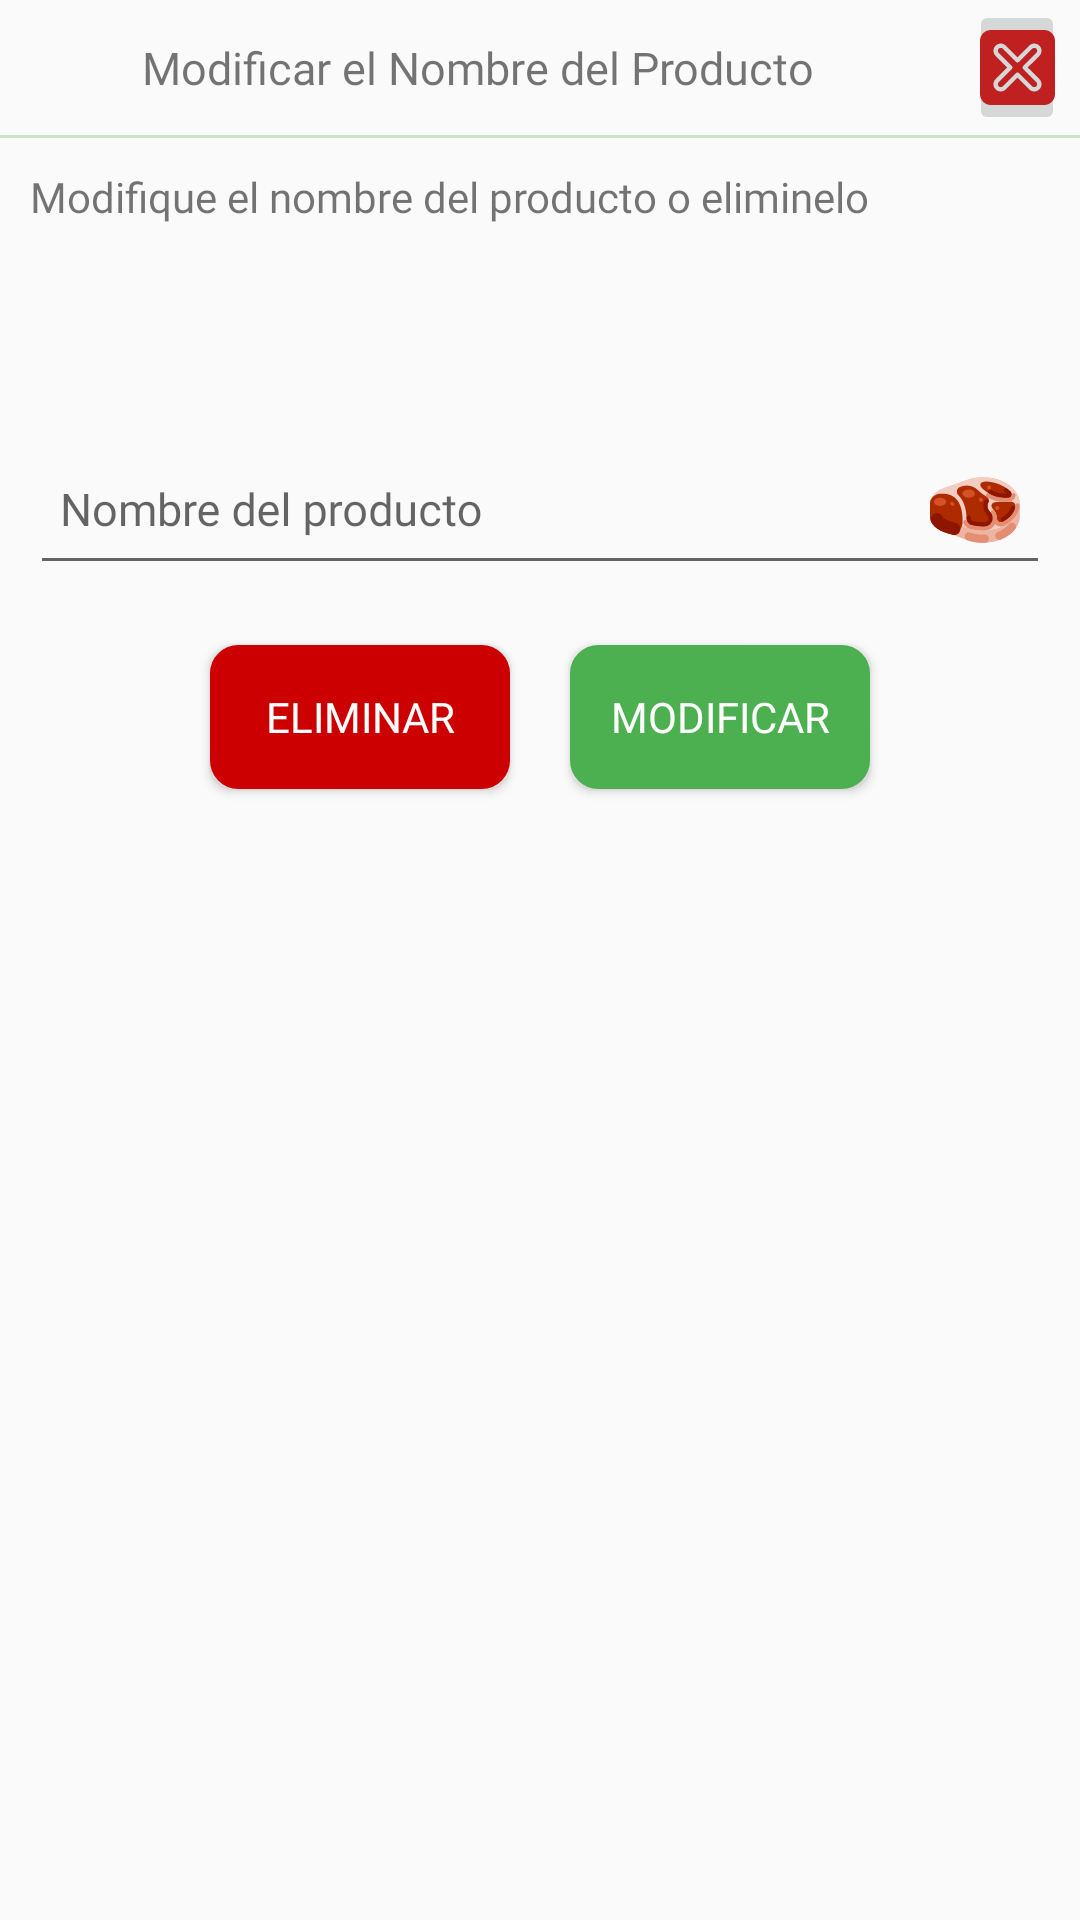

Where icons sit on this 1080×1920 app screen, as (x1, y1, x2, y2):
cerrar: (980, 18, 1055, 117)
